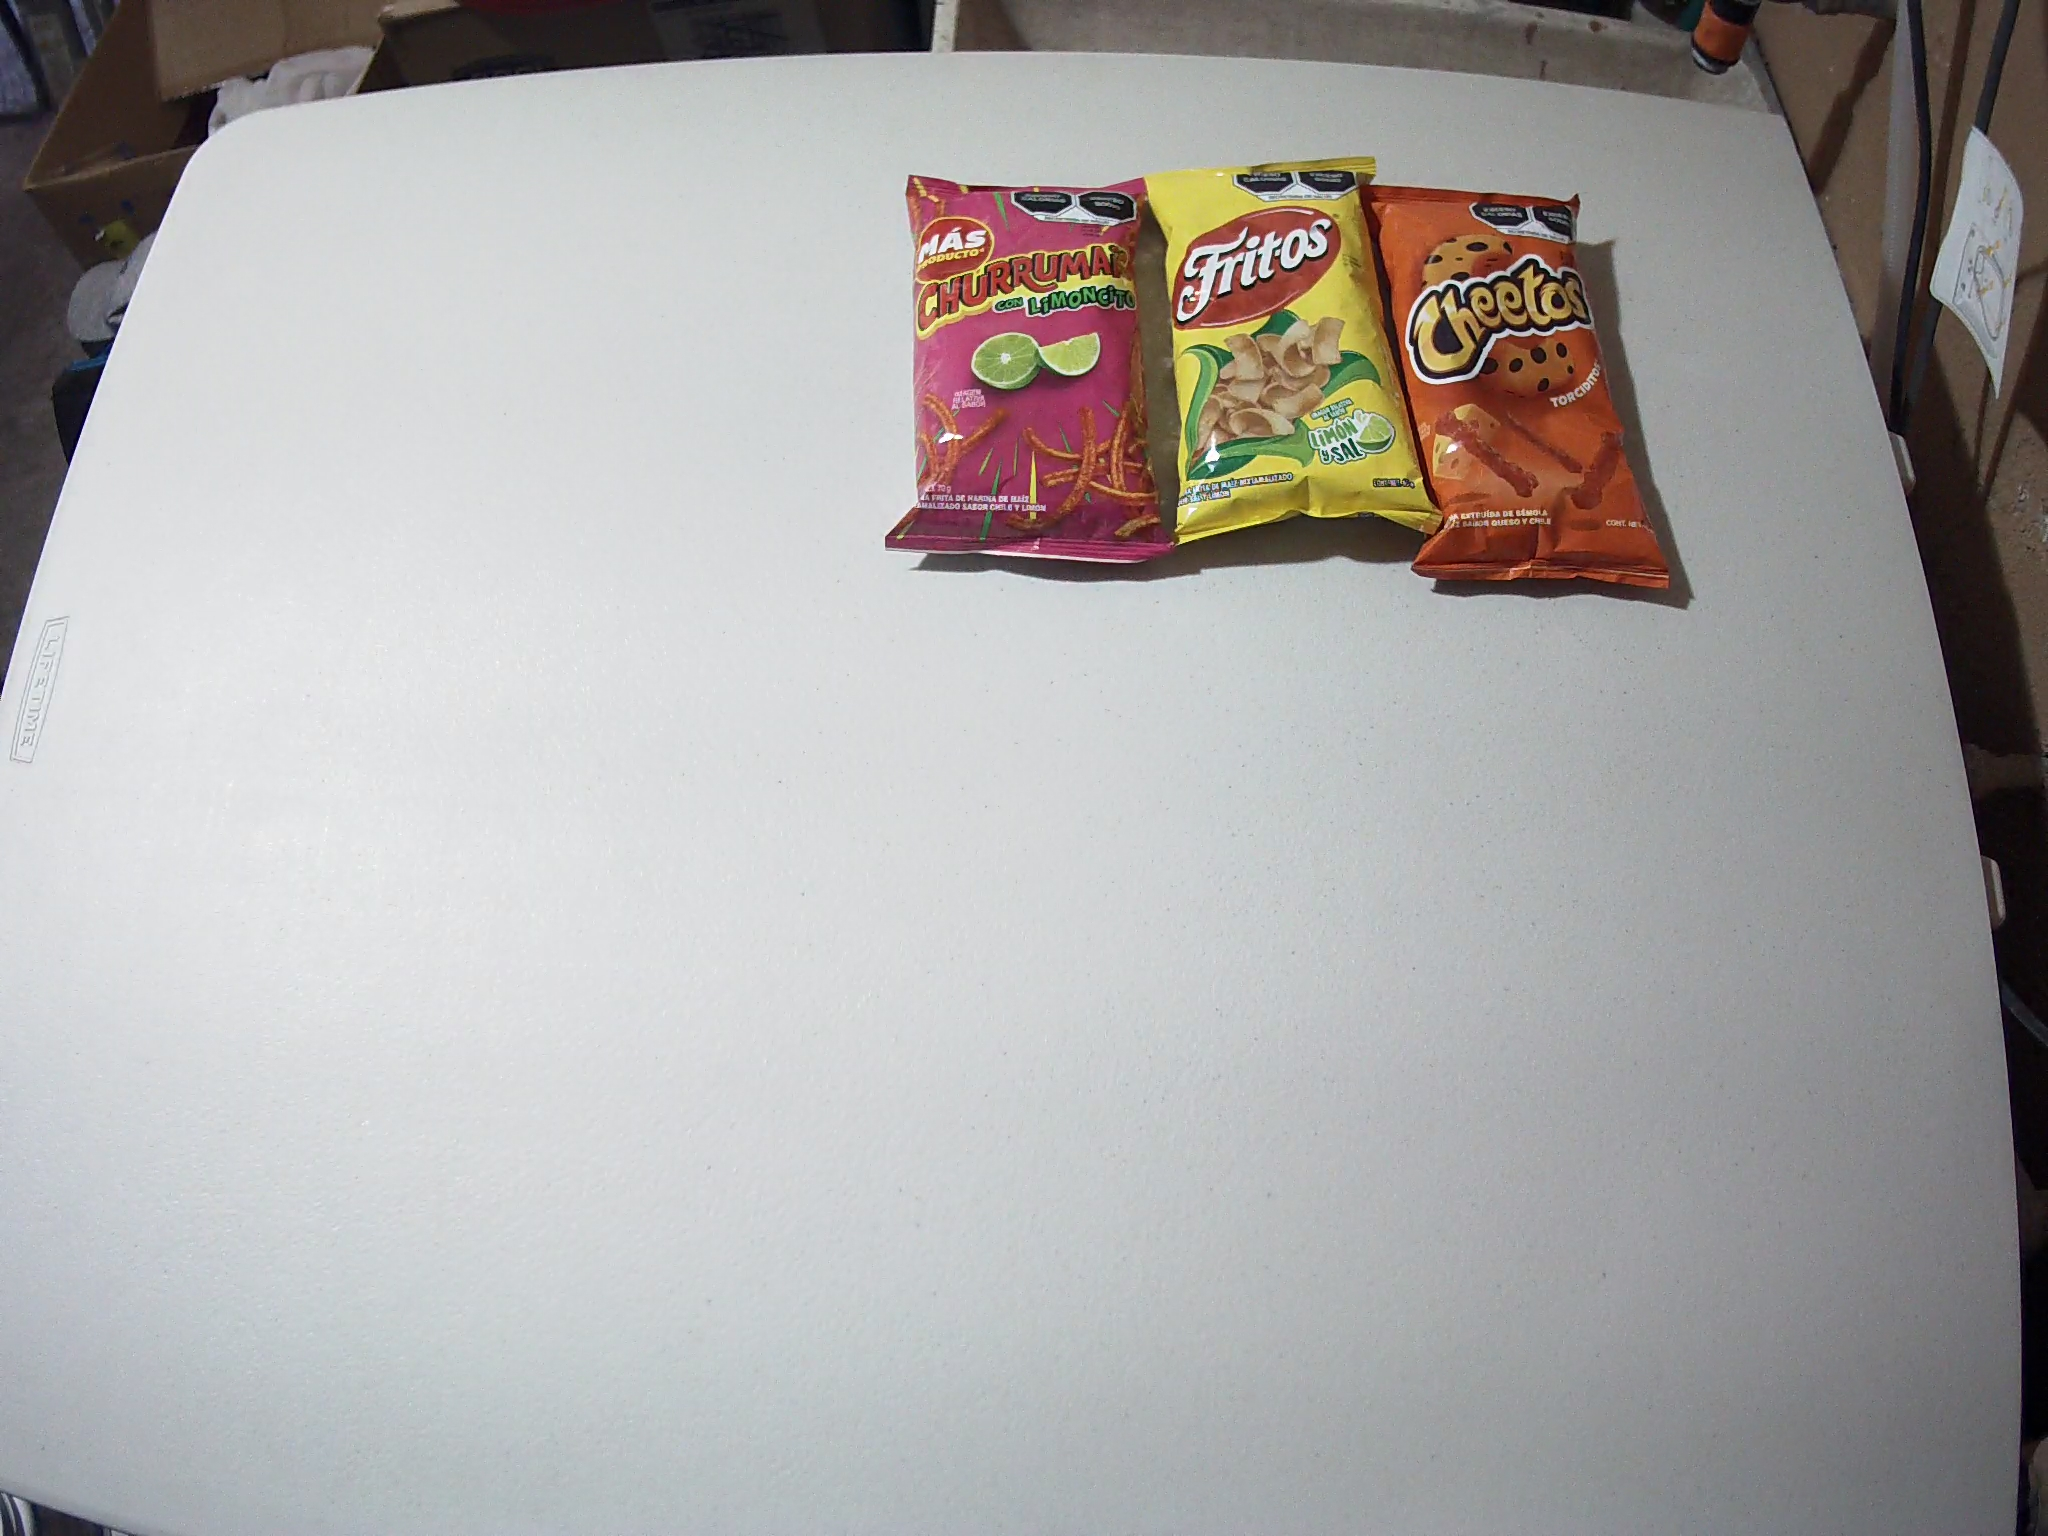CheetosTorciditos_55_F: (1356, 177, 1672, 592)
Churrumais_70_F: (884, 176, 1176, 565)
FritosSalLimon_65_F: (1138, 157, 1442, 547)
